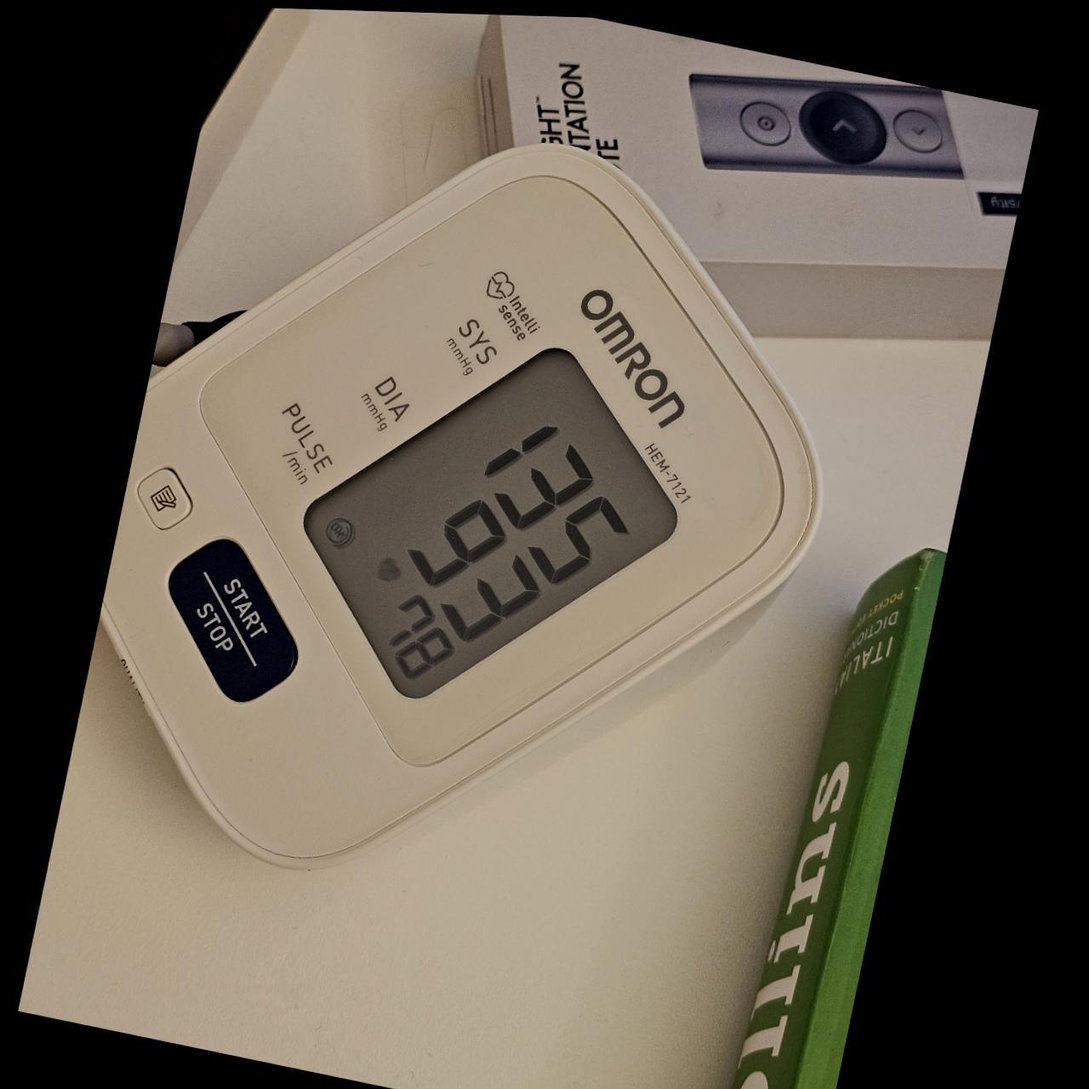blood pressure monitor: (54, 62, 892, 964)
